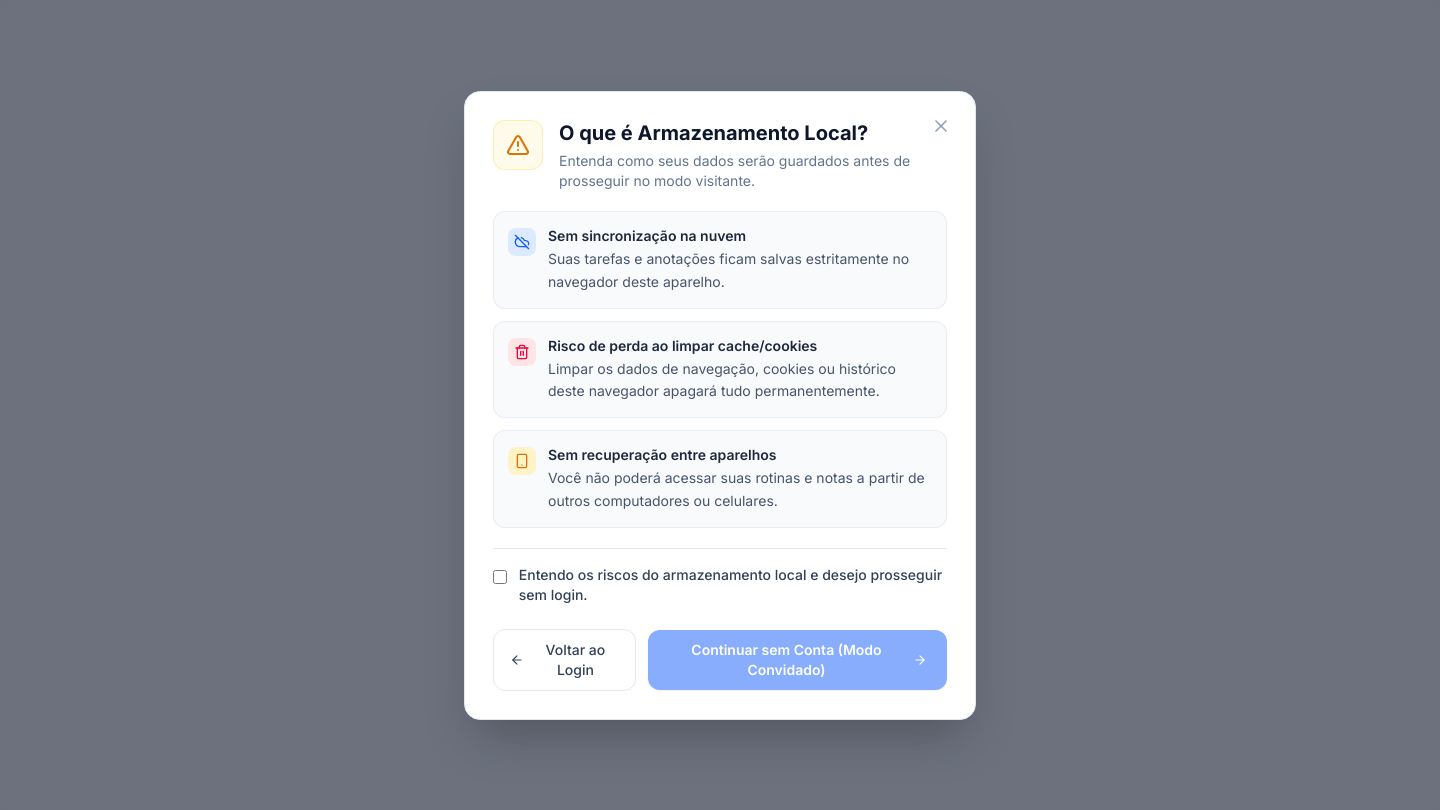
Test: GuestModeWarningModal Component › mantém o botão de confirmação desabilitado até que o checkbox obrigatório seja marcado
The width and height of the screenshot is (1440, 810).
Expected: the button "Continuar sem Conta (Modo Convidado)" is disabled, [648,630,947,690]
Click the checkbox labelled "Entendo os riscos do armazenamento local e desejo prosseguir sem login" at (500, 576), box [493,568,507,584]
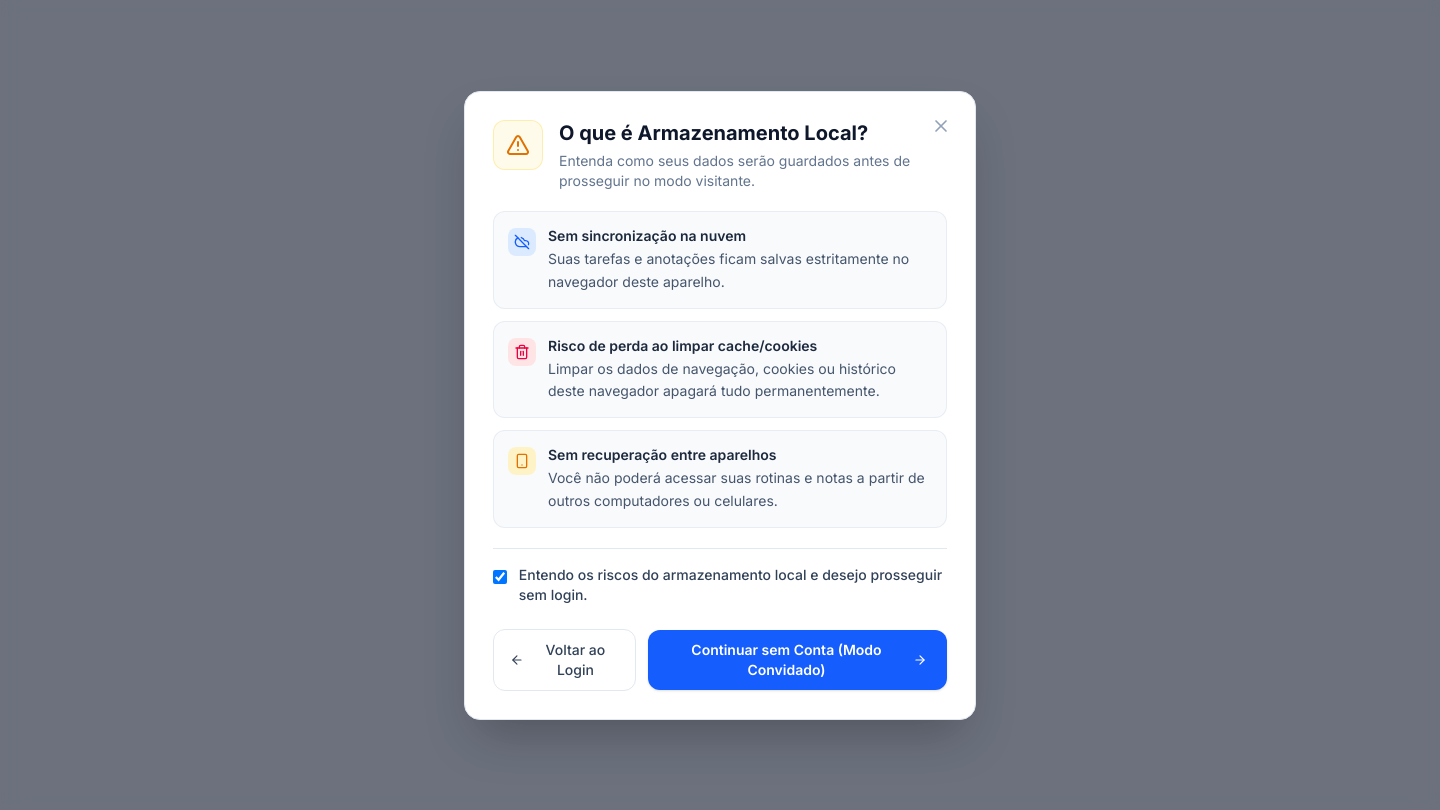
Result: the button "Continuar sem Conta (Modo Convidado)" is enabled at [648,630,947,690]
Click the checkbox labelled "Entendo os riscos do armazenamento local e desejo prosseguir sem login" at (500, 576), box [493,568,507,584]
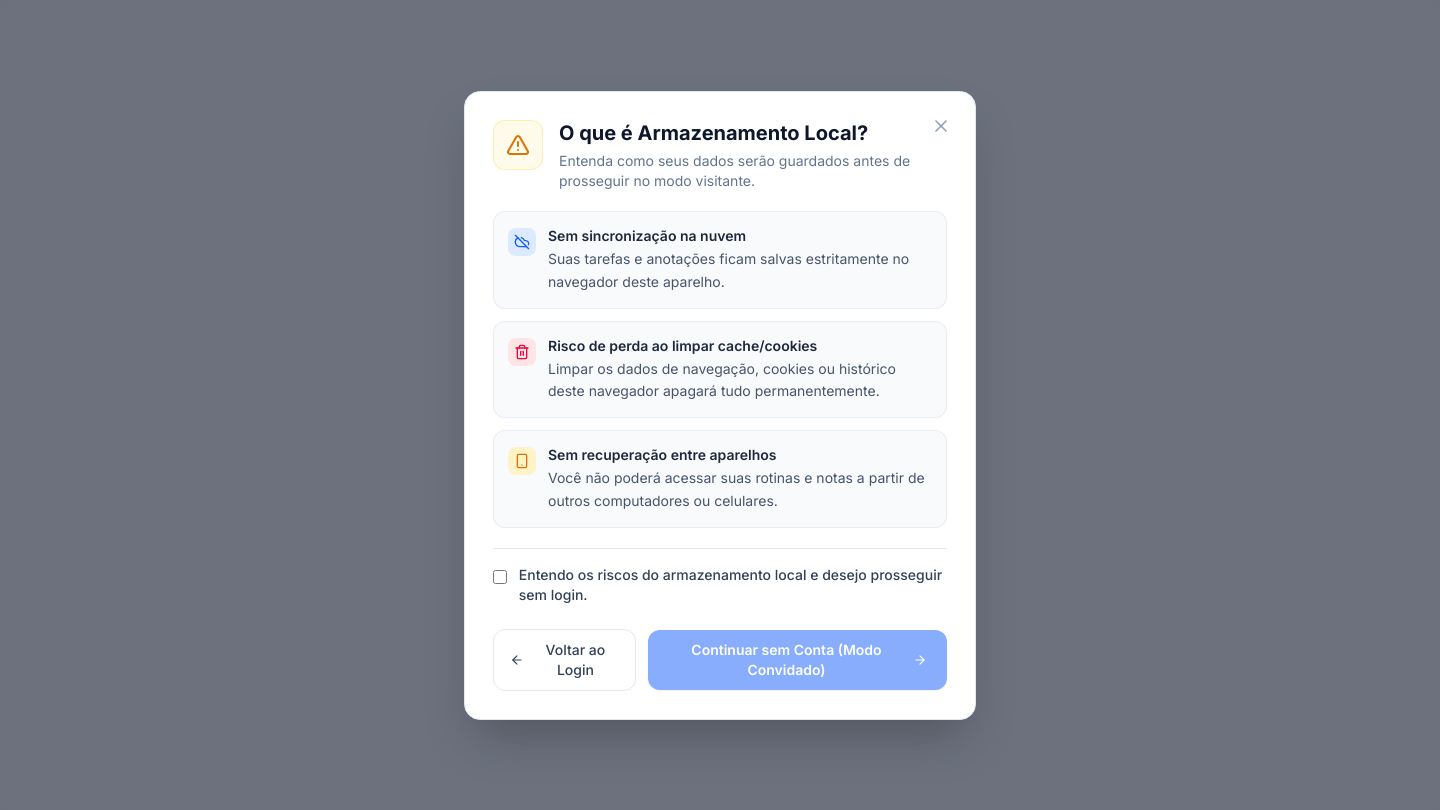
Result: the button "Continuar sem Conta (Modo Convidado)" is disabled at [648,630,947,690]
